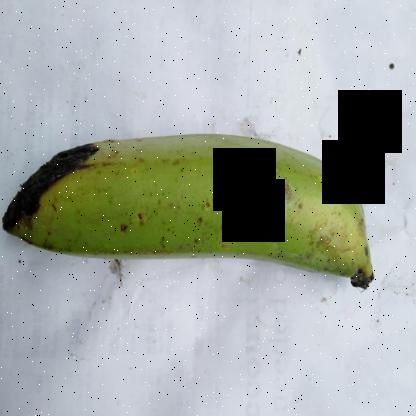rotten: (1, 123, 102, 246)
unripe: (88, 112, 373, 310)
